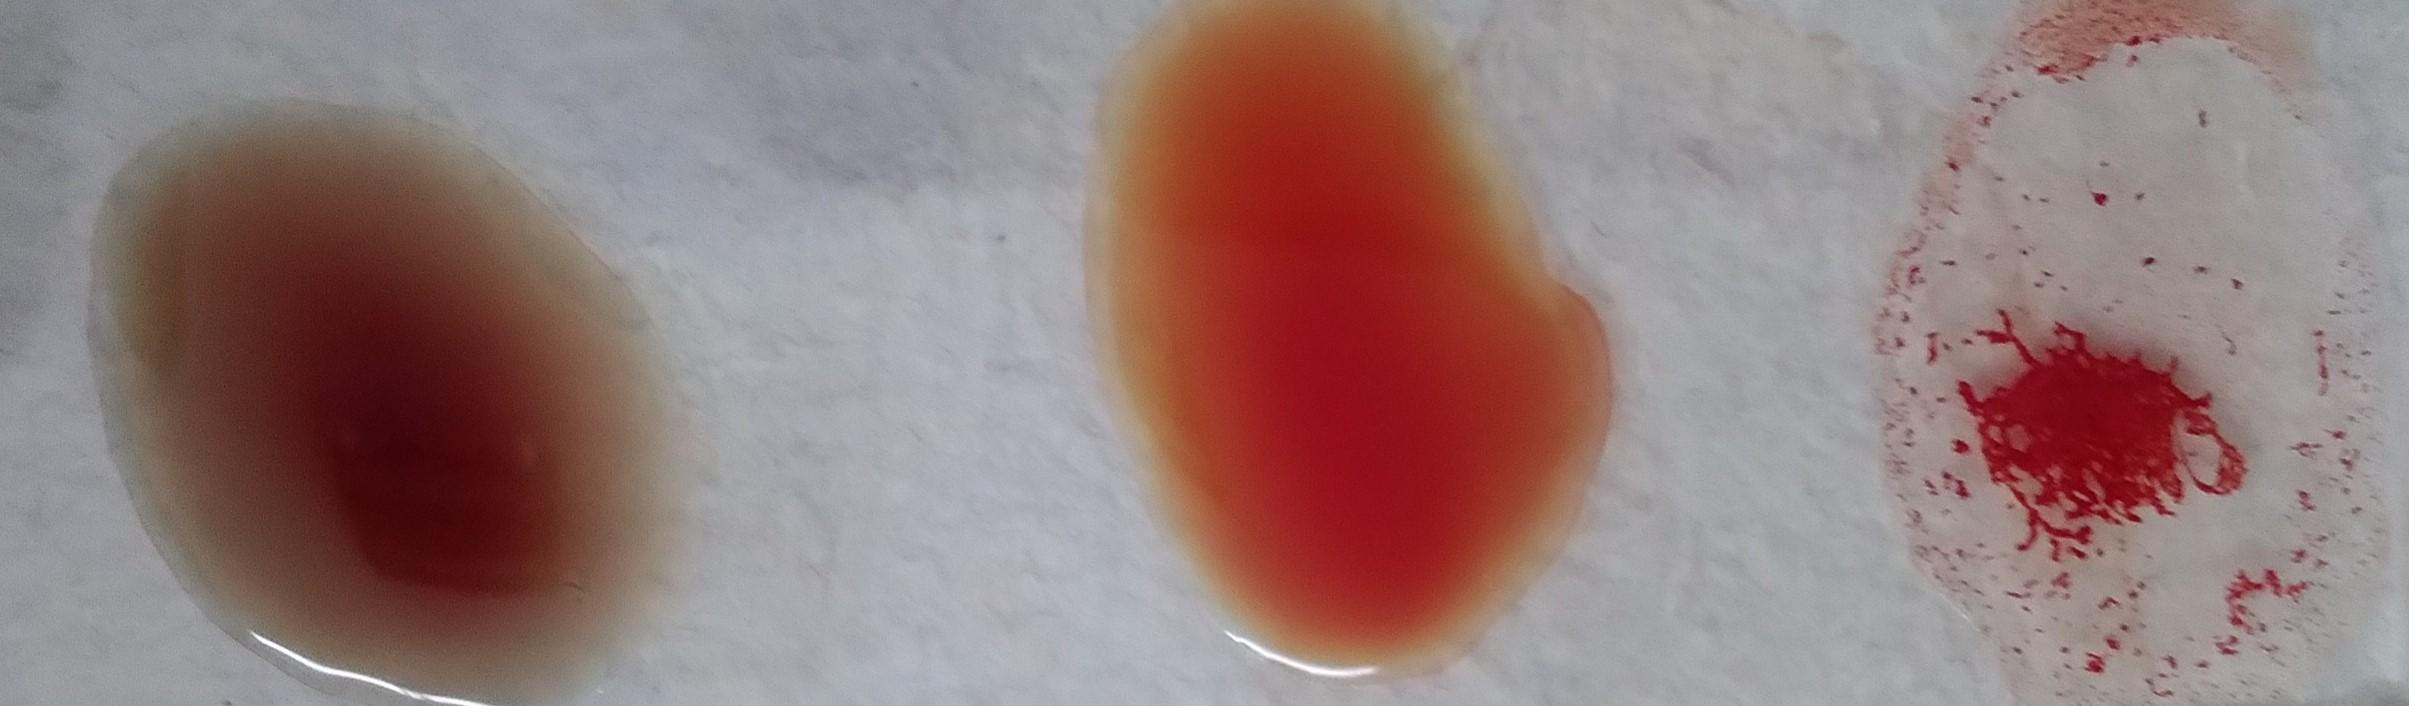D: (1891, 18, 2378, 704)
